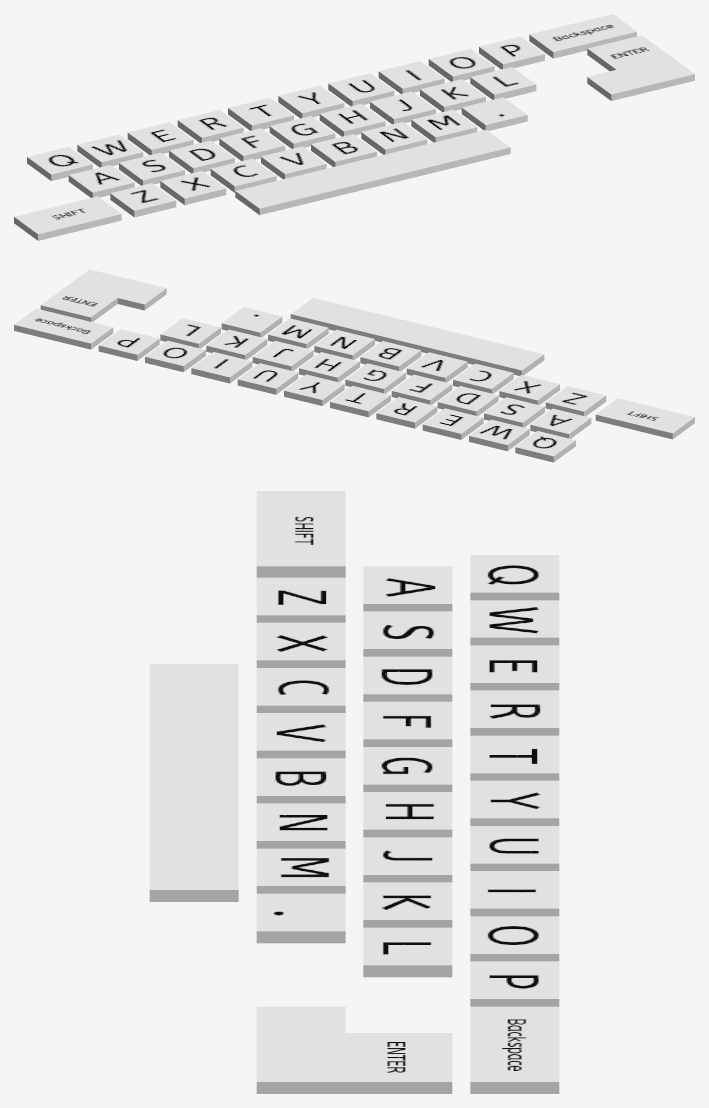
File: Keyboard.fbx
3 views of the same model, one above another, from view 1: azimuth 30°, elevation 25°; view 2: azimuth 150°, elevation 25°; view 3: azimuth 270°, elevation 25° (orthographic). The views are drawn at different scales.
Visible parts, largest first — view 1: Space, Enter, Shift, Backspace, X, Z, ., L, P, Q, A, H (+19 smaller); view 2: Space, Enter, Backspace, Shift, E, R, U, P, I, W, T, Y (+19 smaller); view 3: Space, Enter, Backspace, Shift, L, ., R, P, S, K, N, Z (+19 smaller).
Part boxes in pixels (x1,y1,x2,y2): Space: [235, 129, 510, 215]; Enter: [587, 35, 694, 100]; Shift: [14, 196, 121, 240]; Backspace: [529, 14, 636, 58]; X: [160, 171, 226, 205]; Z: [110, 183, 176, 217]; .: [461, 97, 527, 130]; L: [470, 67, 536, 99]; P: [479, 36, 544, 69]; Q: [27, 147, 92, 180]; A: [68, 165, 134, 197]; H: [319, 103, 385, 136]; Space: [290, 298, 544, 375]; Enter: [40, 269, 166, 322]; Backspace: [14, 308, 113, 349]; Shift: [595, 398, 694, 439]; E: [422, 408, 483, 439]; R: [376, 397, 437, 428]; U: [237, 363, 298, 394]; P: [98, 329, 159, 360]; I: [191, 352, 252, 383]; W: [469, 419, 529, 451]; T: [330, 385, 390, 417]; Y: [284, 374, 344, 405]; Space: [149, 664, 238, 901]; Enter: [256, 1006, 452, 1093]; Backspace: [470, 1006, 559, 1093]; Shift: [256, 491, 345, 577]; L: [363, 927, 452, 977]; .: [256, 893, 345, 943]; R: [470, 690, 559, 735]; P: [470, 961, 559, 1006]; S: [363, 611, 452, 656]; K: [363, 882, 452, 927]; N: [256, 803, 345, 848]; Z: [256, 577, 345, 622].
Size of the model in its own units: 15.7 by 0.15 by 4.6.
Materials: 1 (1 with a texture image).
